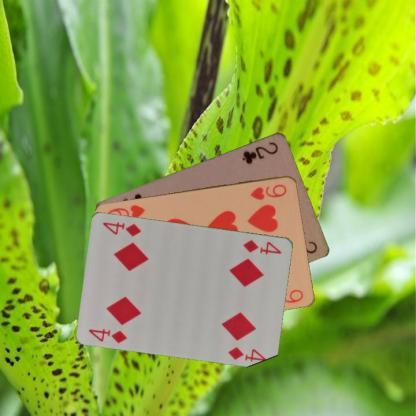2c: (239, 139, 280, 165)
4d: (241, 236, 283, 256), (86, 326, 129, 344)
9h: (248, 181, 288, 201)
